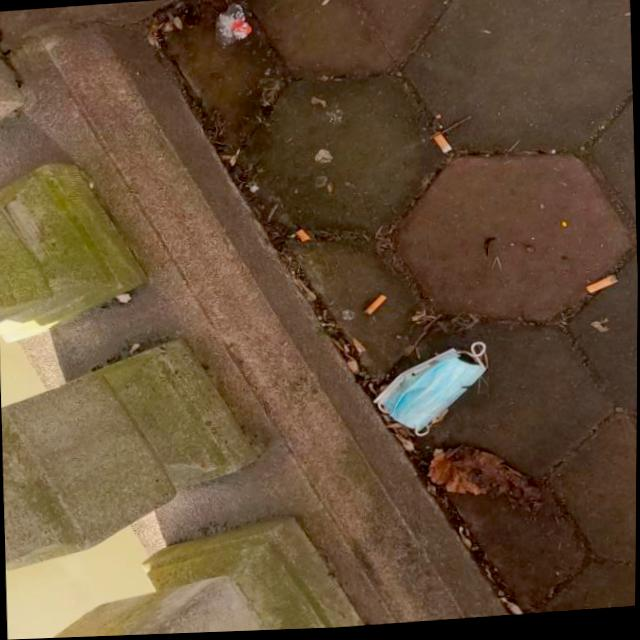Mask: (368, 342, 492, 443)
Plastic: (212, 3, 253, 49)
